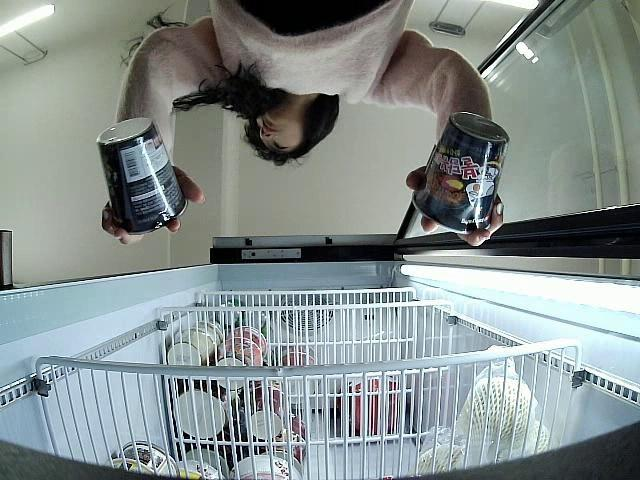08_buldak_S: (412, 112, 508, 232), (96, 117, 188, 234)
